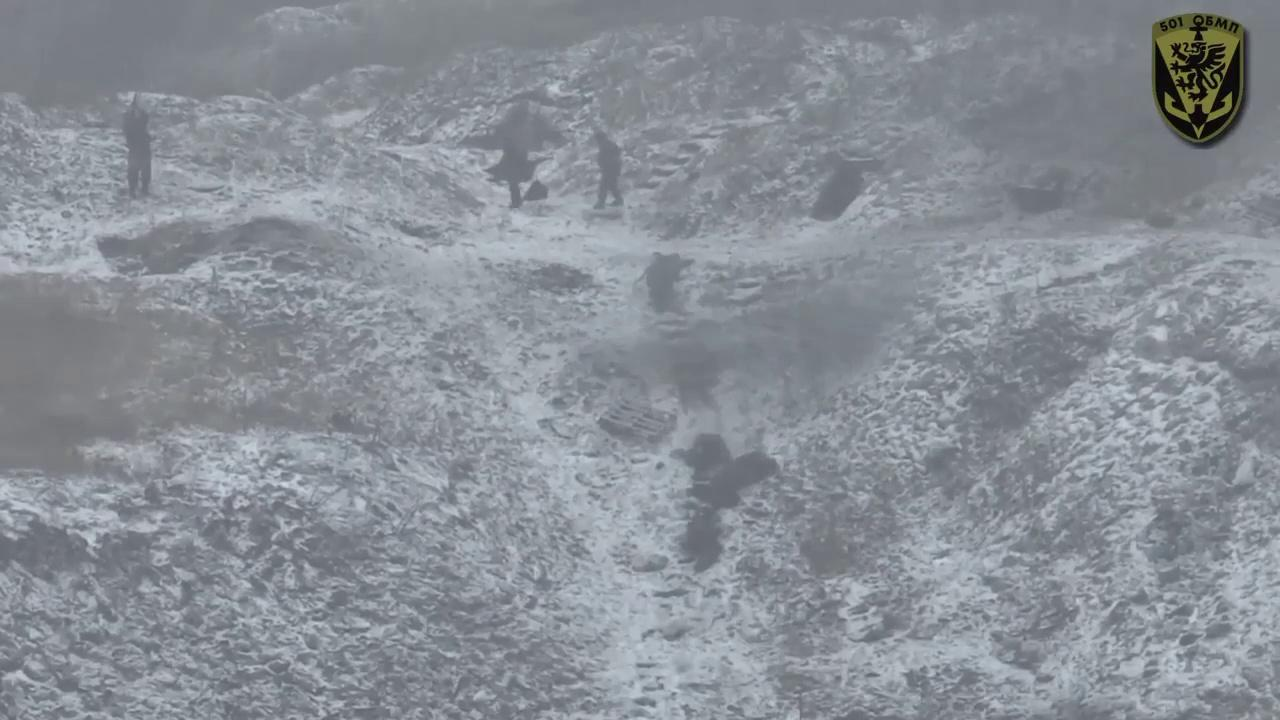person: (807, 161, 870, 221), (118, 98, 156, 194), (670, 430, 734, 479), (682, 509, 726, 575), (499, 122, 532, 207), (713, 453, 782, 491), (646, 248, 684, 314), (592, 130, 619, 212)
